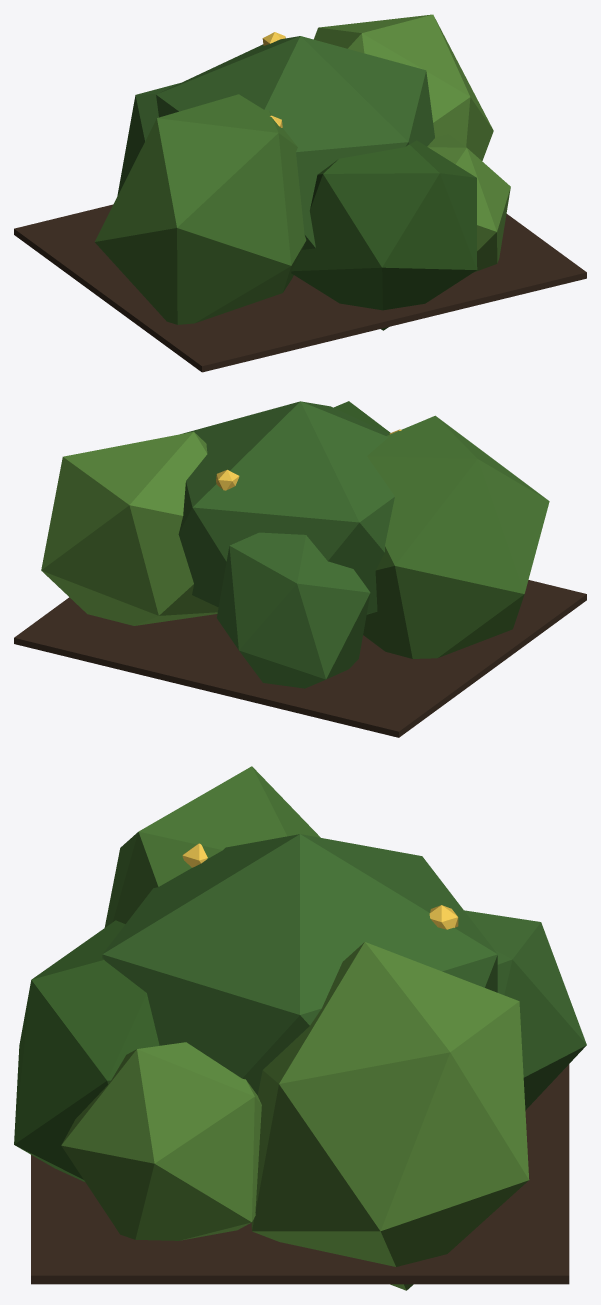
The model's file is OT_Bush.glb.
The picture shows the model from 3 angles, top to bottom: view 1: azimuth 30°, elevation 25°; view 2: azimuth 150°, elevation 25°; view 3: azimuth 270°, elevation 25°; orthographic projection. The views are drawn at different scales.
Visible parts, largest first — view 1: OT_Bush_Shrub4a7a33__4a7a33, OT_Bush_Mulch__3a2a1e, OT_Bush_Shrub355f25__355f25, OT_Bush_Shrub3e6b2f__3e6b2f, OT_Bush_Shrub5a8a3a__5a8a3a; view 2: OT_Bush_Shrub3e6b2f__3e6b2f, OT_Bush_Shrub4a7a33__4a7a33, OT_Bush_Mulch__3a2a1e, OT_Bush_Shrub5a8a3a__5a8a3a, OT_Bush_Shrub355f25__355f25; view 3: OT_Bush_Shrub5a8a3a__5a8a3a, OT_Bush_Shrub3e6b2f__3e6b2f, OT_Bush_Mulch__3a2a1e, OT_Bush_Shrub355f25__355f25, OT_Bush_Shrub4a7a33__4a7a33, OT_Bush_Flower__f2c94c.
Boxes of the visible parts, x1,y1,x2,y2 form: OT_Bush_Shrub4a7a33__4a7a33: (95,94,306,324); OT_Bush_Mulch__3a2a1e: (14,204,586,372); OT_Bush_Shrub355f25__355f25: (291,140,477,330); OT_Bush_Shrub3e6b2f__3e6b2f: (117,36,434,249); OT_Bush_Shrub5a8a3a__5a8a3a: (314,14,510,272); OT_Bush_Shrub3e6b2f__3e6b2f: (178,401,394,688); OT_Bush_Shrub4a7a33__4a7a33: (363,415,549,658); OT_Bush_Mulch__3a2a1e: (14,580,586,737); OT_Bush_Shrub5a8a3a__5a8a3a: (41,431,218,625); OT_Bush_Shrub355f25__355f25: (333,401,390,433); OT_Bush_Shrub5a8a3a__5a8a3a: (61,942,529,1290); OT_Bush_Shrub3e6b2f__3e6b2f: (102,834,586,1110); OT_Bush_Mulch__3a2a1e: (31,1064,569,1284); OT_Bush_Shrub355f25__355f25: (14,920,159,1181); OT_Bush_Shrub4a7a33__4a7a33: (104,766,320,927); OT_Bush_Flower__f2c94c: (182,843,458,929).
Bounding box in the file's own units: 2.95 × 1.58 × 2.34.
